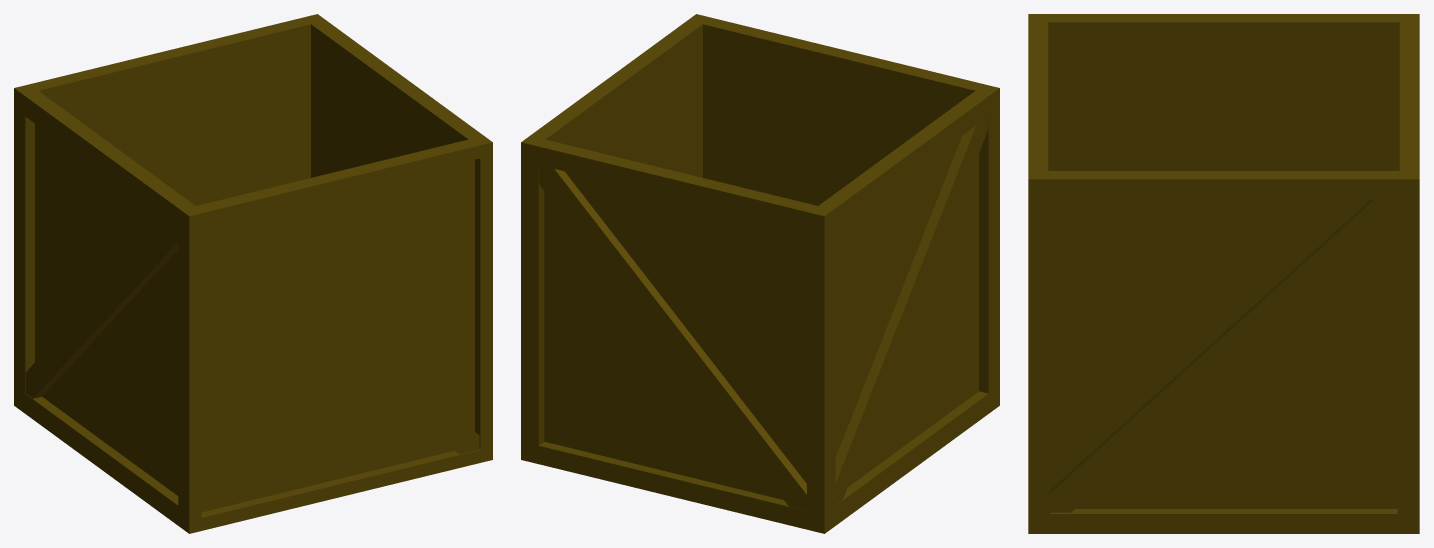
The model's file is Crate_Ouvert.fbx.
3 renders of one model, left to right at view 1: azimuth 30°, elevation 25°; view 2: azimuth 150°, elevation 25°; view 3: azimuth 270°, elevation 25°, orthographic. The views are drawn at different scales.
Parts seen in each view (by area): view 1: Boite_Ouvert; view 2: Boite_Ouvert; view 3: Boite_Ouvert.
Part boxes in pixels (box(x1,y1,x2,y2)): Boite_Ouvert: box(14, 14, 492, 533); Boite_Ouvert: box(521, 14, 999, 533); Boite_Ouvert: box(1028, 14, 1419, 533).
Bounding box in the file's own units: 200 × 200 × 200.
